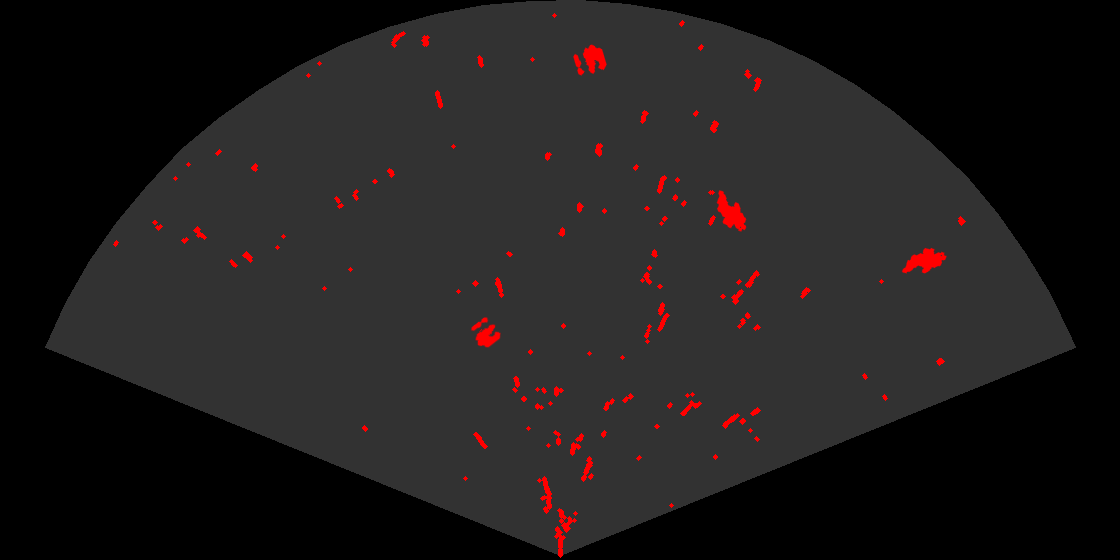AUV: (715, 189, 748, 233), (900, 246, 948, 275)
ball: (572, 43, 608, 77), (469, 315, 502, 349)
